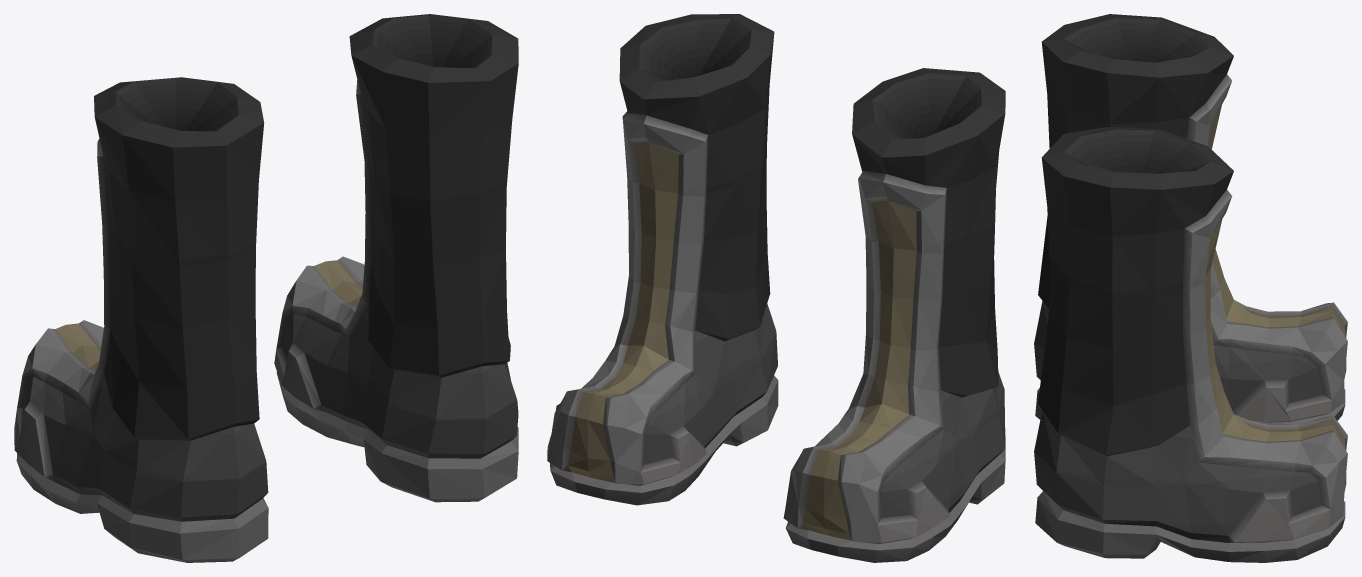
Rendered from CharSkyKid_Feet_AP25BootTall.glb.
3 renders of one model, left to right at view 1: azimuth 30°, elevation 25°; view 2: azimuth 150°, elevation 25°; view 3: azimuth 270°, elevation 25°, orthographic. The views are drawn at different scales.
Visible parts, largest first — view 1: CharSkyKid_Feet_AP25BootTall; view 2: CharSkyKid_Feet_AP25BootTall; view 3: CharSkyKid_Feet_AP25BootTall.
Part boxes in pixels (x1,y1,x2,y2): CharSkyKid_Feet_AP25BootTall: (14,14,518,562); CharSkyKid_Feet_AP25BootTall: (547,14,1005,562); CharSkyKid_Feet_AP25BootTall: (1034,14,1347,562).
Size of the model in its own units: 2.98 by 2.94 by 2.18.
1 material, 1 textured.
